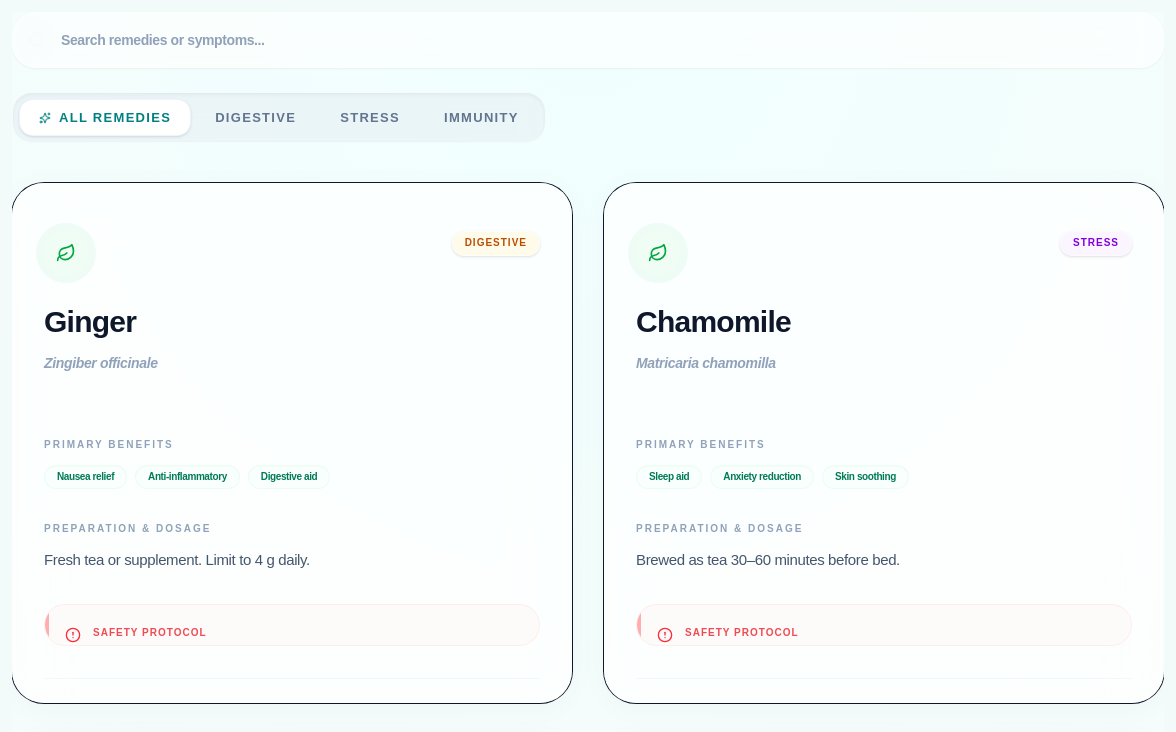
Test case: HerbalGuide Component › filters remedies based on category buttons
The width and height of the screenshot is (1176, 732).
# Click 'Stress' category button
Click the button "Stress": (370, 118) [320,99,420,136]
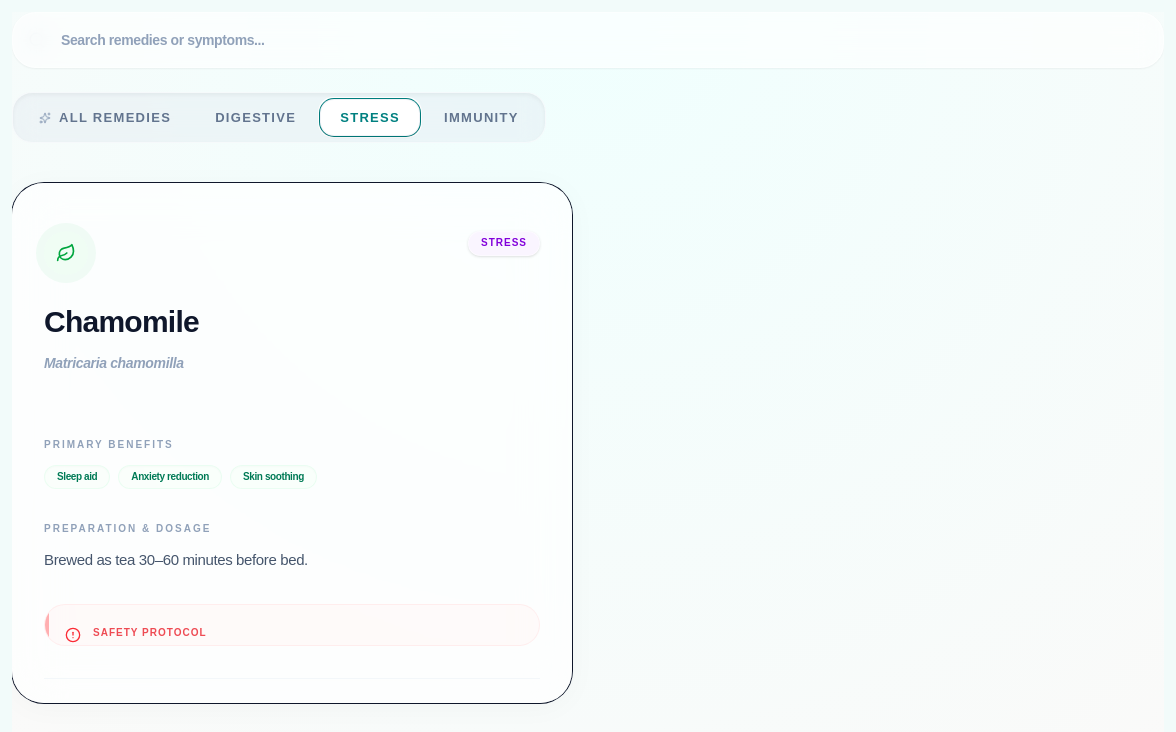
Check: the text "Chamomile" is shown, box [44,305,199,338]
Check: the text "Ginger" is gone
# Click 'All' to reset
Click the button "All Remedies": (105, 118) [19,99,191,136]
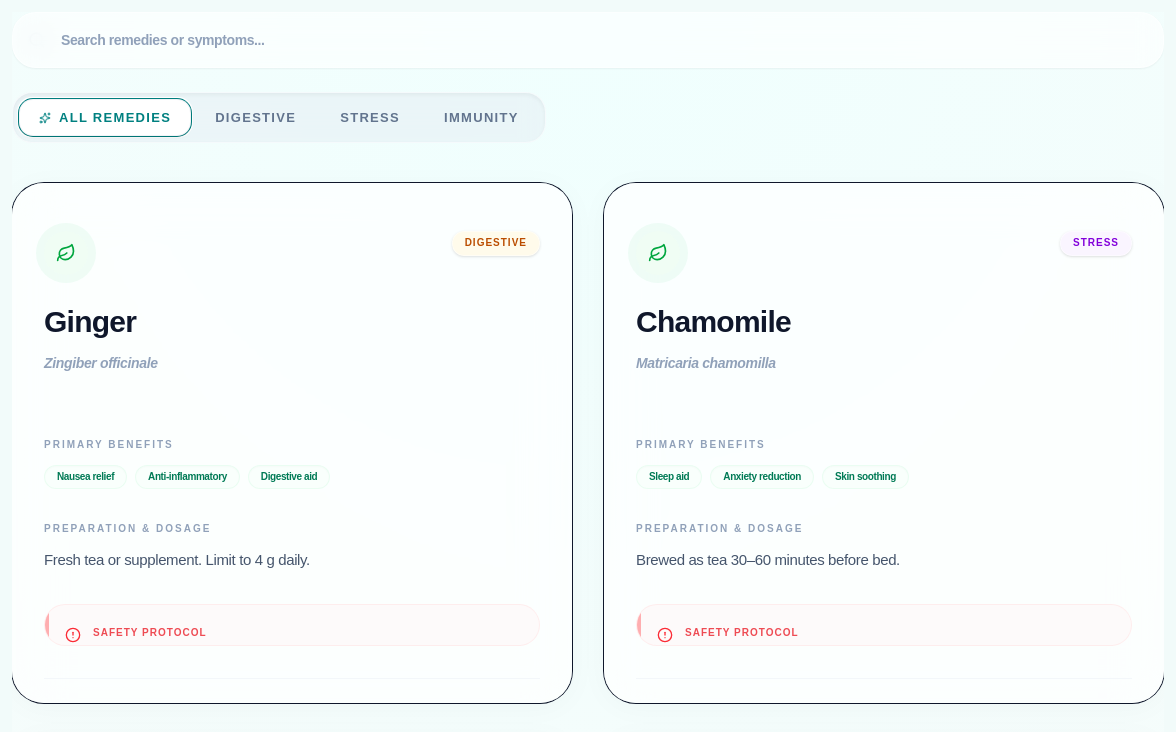
Check: the text "Ginger" is shown, box [44,305,136,338]
